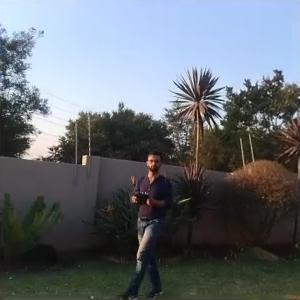follow: (116, 144, 177, 299)
